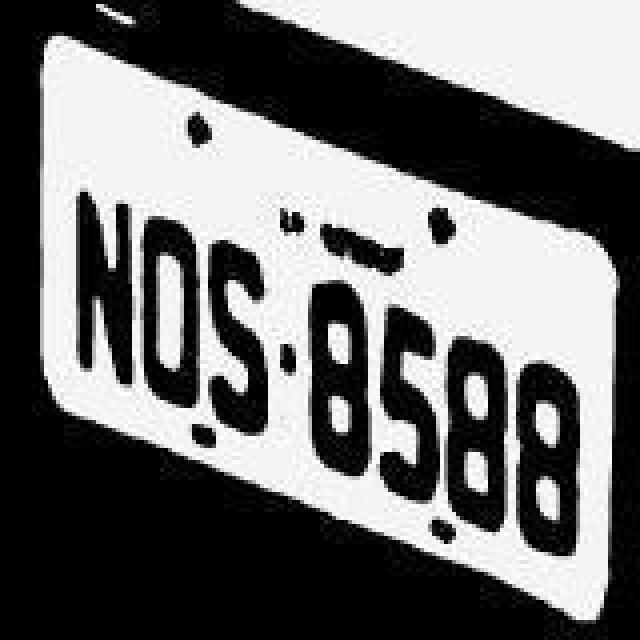5: (372, 284, 444, 516)
8: (512, 332, 592, 580), (298, 272, 374, 504), (440, 296, 512, 536)
N: (58, 160, 134, 400)
O: (132, 202, 204, 422)
S: (204, 236, 276, 436)
